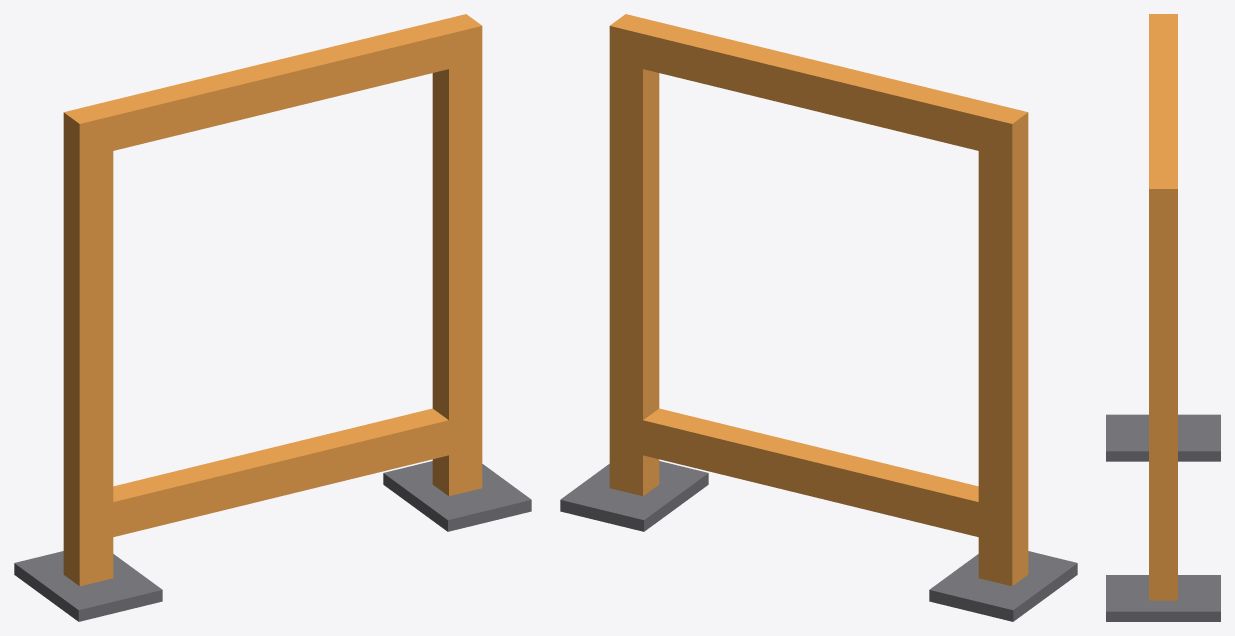
File: tor.glb
The picture shows the model from 3 angles, left to right: view 1: azimuth 30°, elevation 25°; view 2: azimuth 150°, elevation 25°; view 3: azimuth 270°, elevation 25°; orthographic projection. The views are drawn at different scales.
Visible parts, largest first — view 1: Tor; view 2: Tor; view 3: Tor.
Part boxes in pixels (x1,y1,x2,y2): Tor: (14,14,531,621); Tor: (560,14,1077,621); Tor: (1106,14,1220,621).
Bounding box in the file's own units: 3.24 × 3.24 × 0.8.
